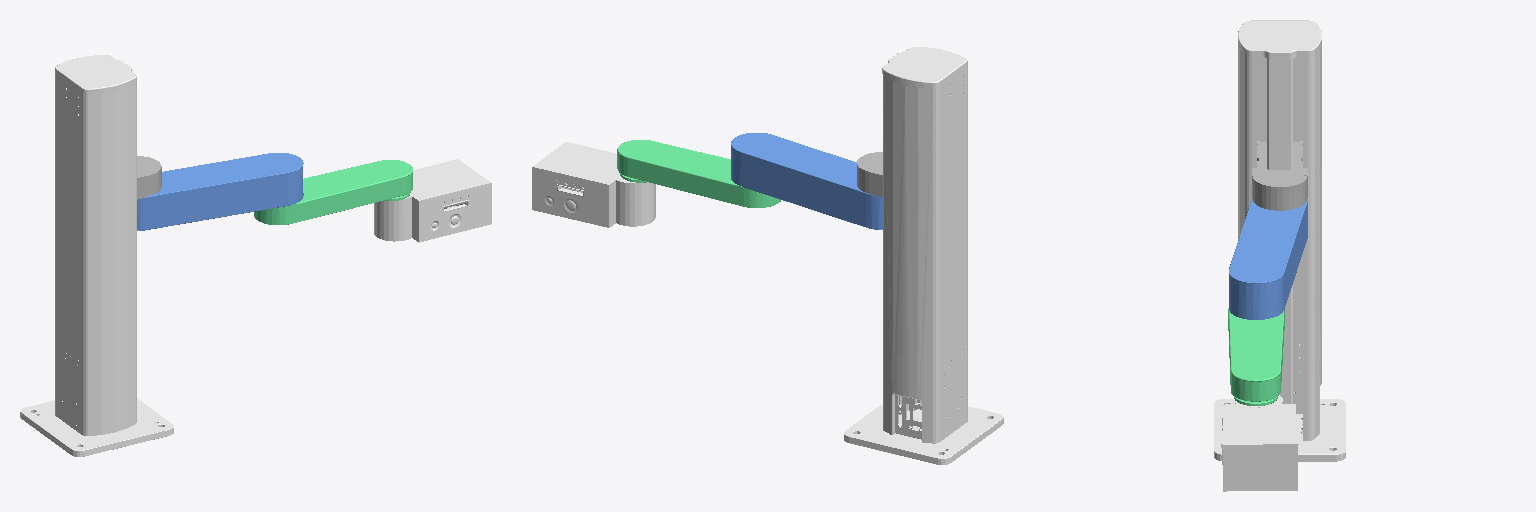
The robot description file, URDF, robot "ur3":
<?xml version="1.0" encoding="utf-8"?>

<robot name="ur3">
    <mujoco>
        <compiler meshdir="../meshes/" balanceinertia="true" discardvisual="false" />
    </mujoco>
    <!-- 底座连杆 base_link - 单独配置颜色（白色） -->
    <link name="base_link">
        <inertial>
            <origin xyz="-0.13943 -0.12437 -0.34278" rpy="0 0 0" />
            <mass value="4.5671" />
            <inertia ixx="0.20051" ixy="-8.0396E-05" ixz="0.00036454" iyy="0.19652" iyz="-0.0014165"
                izz="0.026986" />
        </inertial>
        <visual>
            <origin xyz="0 0 0" rpy="1.5708 0 0" />
            <geometry>
                <mesh filename="../meshes/base_link.obj" />
            </geometry>
            <!-- 单独写颜色：白色（rgba=1 1 1 1） -->
            <material name="base_link_white">
                <color rgba="1 1 1 1" />
            </material>
        </visual>
        <collision>
            <origin xyz="-0.125 0.125 0.425" rpy="0 0 0" />
            <geometry>
                <box size="0.145 0.145 0.83" />
            </geometry>
        </collision>
        <collision>
            <origin xyz="-0.125 0.125 0.005" rpy="0 0 0" />
            <geometry>
                <box size="0.25 0.25 0.01" />
            </geometry>
        </collision>
    </link>
    <!-- 连杆 link1 - 单独配置颜色（浅灰色） -->
    <link name="link1">
        <inertial>
            <origin xyz="0.028429 -0.10525 -0.058001" rpy="0 0 0" />
            <mass value="1.0689" />
            <inertia ixx="0.0042774" ixy="0.00017477" ixz="-1.5776E-08" iyy="0.0011483"
                iyz="-2.8503E-08" izz="0.0037421" />
        </inertial>
        <visual>
            <origin xyz="0 0 0" rpy="0 0 0" />
            <geometry>
                <mesh filename="../meshes/link1.obj" />
            </geometry>
            <!-- 单独写颜色：浅灰色（rgba=0.8 0.8 0.8 1） -->
            <material name="link1_light_grey">
                <color rgba="0.8 0.8 0.8 1" />
            </material>
        </visual>
        <collision>
            <origin xyz="0.02575 -0.1005 -0.058" rpy="1.5708 0 1.5708" />
            <geometry>
                <box size="0.201 0.116 0.0515" />
            </geometry>
        </collision>
    </link>
    <!-- 连杆 link2 - 单独配置颜色（浅蓝色） -->
    <link name="link2">
        <inertial>
            <origin xyz="0.14475 -3.0463E-07 0.041307" rpy="0 0 0" />
            <mass value="2.5831" />
            <inertia ixx="0.0036792" ixy="4.4029E-08" ixz="6.8027E-05" iyy="0.026394"
                iyz="-3.6629E-08" izz="0.027895" />
        </inertial>
        <visual>
            <origin xyz="0 0 0" rpy="0 0 0" />
            <geometry>
                <mesh filename="../meshes/link2.obj" />
            </geometry>
            <!-- 单独写颜色：浅蓝色（rgba=0.5 0.7 1 1） -->
            <material name="link2_light_blue">
                <color rgba="0.5 0.7 1 1" />
            </material>
        </visual>
        <collision>
            <origin xyz="0.18 0 0.03925" rpy="0 0 0" />
            <geometry>
                <box size="0.431 0.106 0.07" />
            </geometry>
        </collision>
    </link>


    <!-- 连杆 link3 - 单独配置颜色（浅绿色） -->
    <link name="link3">
        <inertial>
            <origin xyz="-0.1088 -0.002117 0.025856" rpy="0 0 0" />
            <mass value="1.2392" />
            <inertia ixx="0.0012197" ixy="-0.00016376" ixz="0.00020961" iyy="0.0094966"
                iyz="5.3385E-06" izz="0.010415" />
        </inertial>
        <visual>
            <origin xyz="0 0 0" rpy="0 0 0" />
            <geometry>
                <mesh filename="../meshes/link3.obj" />
            </geometry>
            <!-- 单独写颜色：浅绿色（rgba=0.5 1 0.7 1） -->
            <material name="link3_light_green">
                <color rgba="0.5 1 0.7 1" />
            </material>
        </visual>
        <collision>
            <origin xyz="-0.145 0 0.0225" rpy="0 0 0" />
            <geometry>
                <box size="0.375 0.105 0.045" />
            </geometry>
        </collision>
    </link>
    <link name="tool_link"/>

    <link
        name="gripper">
        <inertial>
            <origin
                xyz="-0.00983151017542139 0.0599333115427437 -0.00175977245523265"
                rpy="0 0 0" />
            <mass
                value="0.77675171638187" />
            <inertia
                ixx="0.00185381068085517"
                ixy="-7.86059690722816E-05"
                ixz="-1.82743897733095E-06"
                iyy="0.00404204258926908"
                iyz="-2.78591740390197E-07"
                izz="0.00280516037345738" />
        </inertial>
        <visual>
            <origin
                xyz="0.121 -0.1 0"
                rpy="0 0 0" />
            <geometry>
                <mesh
                    filename="../meshes/gripper.obj" />
            </geometry>
            <material
                name="">
                <color
                    rgba="1 1 1 1" />
            </material>
        </visual>
        <collision>
            <origin
                xyz="0.091 -0.04875 0"
                rpy="0 0 0" />
            <geometry>
                <box size="0.242 0.0975 0.140" />
            </geometry>
        </collision>
    </link>

    <!-- 移动关节 joint1（棱柱关节） -->
    <joint name="joint1" type="prismatic">
        <origin xyz="-0.18 0.183 0.5841" rpy="3.1416 1.5708 -1.5708" />
        <parent link="base_link" />
        <child link="link1" />
        <axis xyz="1 0 0" />
        <limit lower="-0.8" upper="0.8" effort="100" velocity="1" />
    </joint>
    <!-- 旋转关节 joint2（绕 z 轴负方向） -->
    <joint name="joint2" type="revolute">
        <origin xyz="0.048996 -0.153 -0.058" rpy="-1.5708 0.13714 -1.5708" />
        <parent link="link1" />
        <child link="link2" />
        <axis xyz="0 0 -1" />
        <limit lower="-3.14" upper="3.14" effort="100" velocity="1" />
    </joint>
    <!-- 旋转关节 joint3（绕 z 轴负方向） -->
    <joint name="joint3" type="revolute">
        <origin xyz="0.325 0 0.077501" rpy="0 0 2.9888" />
        <parent link="link2" />
        <child link="link3" />
        <axis xyz="0 0 -1" />
        <limit lower="-3.14" upper="3.14" effort="100" velocity="1" />
    </joint>
    <joint name="joint3_tool" type="fixed">
        <parent link="link3" />
        <child link="tool_link" />
        <origin xyz="0.0 0.0 0.0" rpy="0.0 0.0 0.0"/>
    </joint>
    
    <joint name="joint_tool_gripper" type="revolute">
        <origin xyz="-0.275 0.0 0.055" rpy="-1.5708 0.0 3.1416" />
        <parent link="tool_link" />
        <child link="gripper" />
        <axis xyz="0 1 0" />
       <limit lower="-3.14" upper="3.14" effort="100" velocity="1" />
    </joint>
    
<!-- 以下是mujoco的控制器相关配置 -->
    <!-- <mujoco>
    <actuator>
        <position name="act_joint1" joint="joint1" kp="1000" />
        <position name="act_joint2" joint="joint2" kp="500" />
        <position name="act_joint3" joint="joint3" kp="500" />
        <position name="act_joint_tool_gripper" joint="joint_tool_gripper" kp="100" />
        
        </actuator>
</mujoco> -->


</robot>

--- What the picture shows (computed from the rendered views, not written in the file) ---
Views: 3 orthographic renders of the robot side by side, from view 1: azimuth 30°, elevation 25°; view 2: azimuth 150°, elevation 25°; view 3: azimuth 270°, elevation 25°.
Model ur3 with 6 links and 5 joints (3 revolute, 1 prismatic, 1 fixed), rooted at base_link, posed all joints at 0.
Visible links, largest first — view 1: base_link, link2, gripper, link3, link1; view 2: base_link, link2, gripper, link3, link1; view 3: base_link, link2, gripper, link3, link1.
Link boxes in pixels (x1,y1,x2,y2): base_link: [20, 55, 173, 456]; link2: [137, 153, 303, 230]; gripper: [374, 159, 491, 242]; link3: [254, 160, 412, 224]; link1: [137, 156, 161, 199]; base_link: [844, 47, 1003, 464]; link2: [731, 133, 882, 229]; gripper: [532, 142, 655, 227]; link3: [617, 140, 780, 207]; link1: [857, 152, 882, 196]; base_link: [1214, 20, 1345, 461]; link2: [1229, 199, 1307, 319]; gripper: [1220, 395, 1298, 491]; link3: [1228, 308, 1284, 405]; link1: [1252, 141, 1307, 210].
Size in the robot's own frame: 1.03 by 0.25 by 0.83 metres.
5 mesh visuals loaded from 5 distinct referenced files (5 OBJ).
